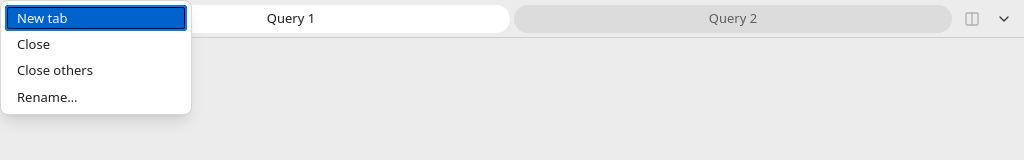
it: rename_in_place: the menu's Rename edits the name in the capsule; Enter keeps it
Click the menu item "Rename…": (96, 97) top-left (5, 84), bottom-right (187, 110)
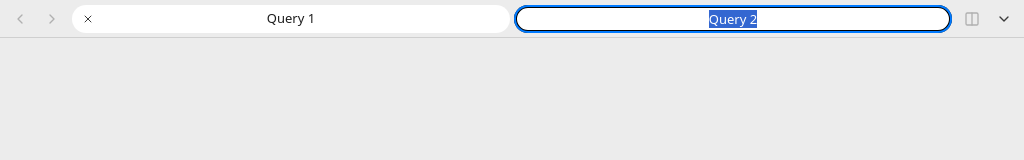
expect the field named "Tab name" holds "Query 2": met
Replace the text in the field named "Tab name" with "Monthly report": (733, 18) top-left (514, 4), bottom-right (952, 32)
Then press Enter
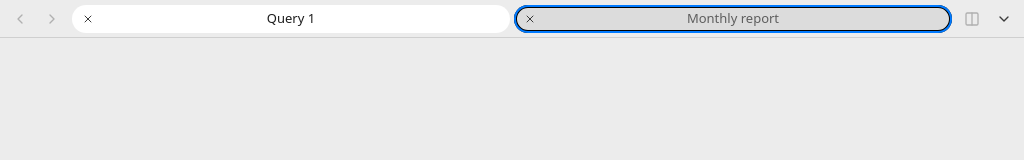
expect the text "Monthly report" is shown: met, box top-left (687, 9), bottom-right (779, 28)
